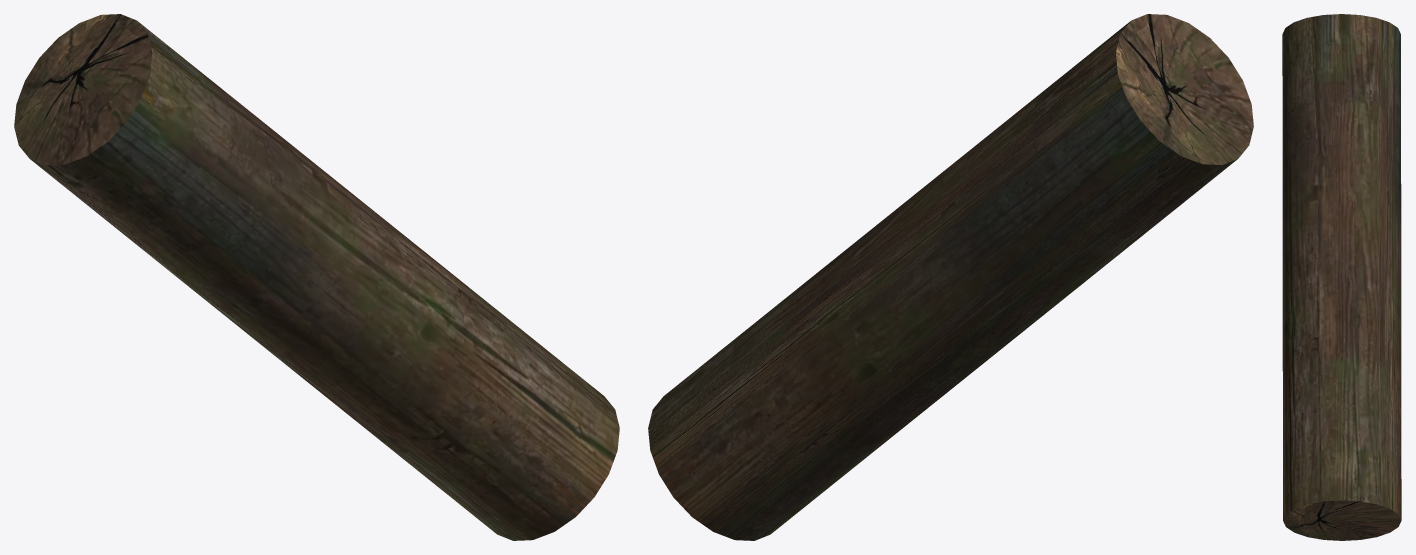
3 renders of one model, left to right at view 1: azimuth 30°, elevation 25°; view 2: azimuth 150°, elevation 25°; view 3: azimuth 270°, elevation 25°, orthographic. The views are drawn at different scales.
Parts seen in each view (by area): view 1: SM_BB_T1_Beam_Thick_Med_Diagonal_LOD0; view 2: SM_BB_T1_Beam_Thick_Med_Diagonal_LOD0; view 3: SM_BB_T1_Beam_Thick_Med_Diagonal_LOD0.
Boxes of the visible parts, <box> form: SM_BB_T1_Beam_Thick_Med_Diagonal_LOD0: <box>14,14,619,540</box>; SM_BB_T1_Beam_Thick_Med_Diagonal_LOD0: <box>648,14,1253,540</box>; SM_BB_T1_Beam_Thick_Med_Diagonal_LOD0: <box>1282,14,1401,540</box>.
Bounding box in the file's own units: 1.85 × 1.85 × 0.4899.
1 material, 1 textured.
